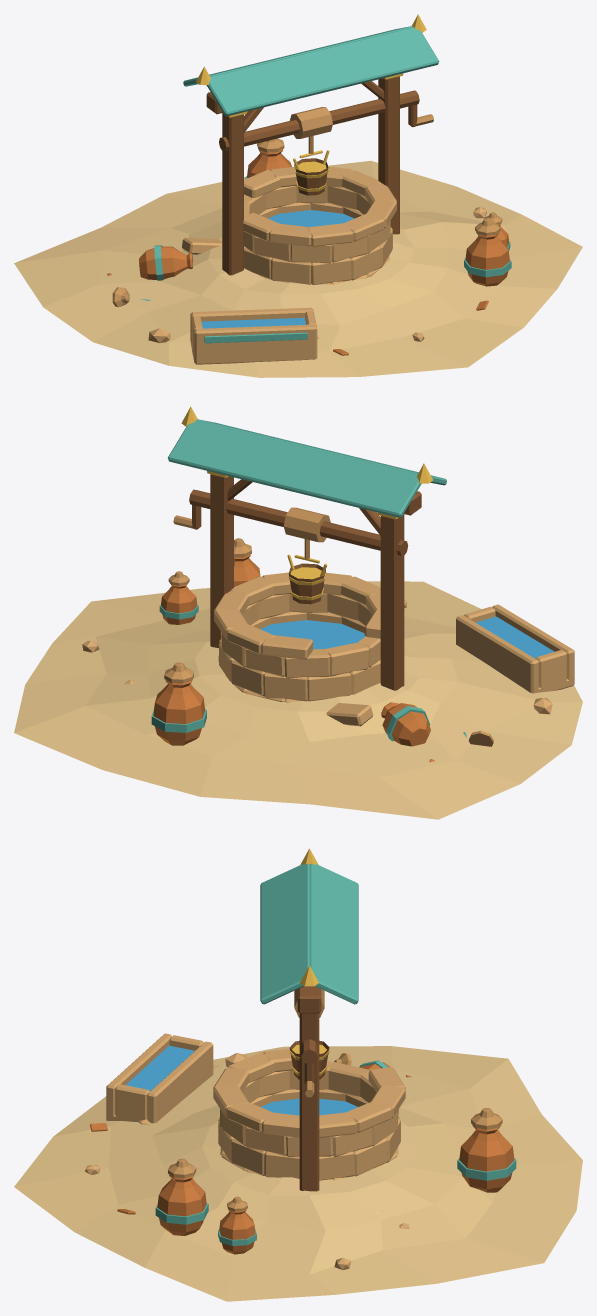
Rendered from desert-well.glb.
3 views of the same model, one above another, from view 1: azimuth 30°, elevation 25°; view 2: azimuth 150°, elevation 25°; view 3: azimuth 270°, elevation 25° (orthographic). The views are drawn at different scales.
Visible parts, largest first — view 1: Sand_Mound, Well_Frame, Well_Wall, Stone_Trough, Windlass, Jar_1, Jar_4, Bucket, Well_Water, Jar_3, Fallen_Capstone, Loose_Stones; view 2: Sand_Mound, Well_Frame, Well_Wall, Stone_Trough, Windlass, Jar_3, Well_Water, Jar_4, Bucket, Jar_2, Fallen_Capstone, Jar_1; view 3: Sand_Mound, Well_Wall, Well_Frame, Stone_Trough, Jar_3, Jar_1, Jar_2, Well_Water, Windlass, Bucket, Loose_Stones.
Part boxes in pixels (x1,y1,x2,y2): Sand_Mound: (14, 160, 582, 377); Well_Frame: (183, 26, 439, 275); Well_Wall: (243, 166, 396, 284); Stone_Trough: (190, 307, 317, 364); Windlass: (219, 90, 433, 151); Jar_1: (464, 232, 511, 286); Jar_4: (139, 245, 193, 280); Bucket: (293, 150, 329, 195); Well_Water: (268, 210, 354, 226); Jar_3: (245, 149, 291, 178); Fallen_Capstone: (182, 237, 222, 254); Loose_Stones: (148, 207, 486, 343); Sand_Mound: (14, 581, 582, 819); Well_Frame: (168, 419, 446, 690); Well_Wall: (214, 572, 380, 702); Stone_Trough: (456, 604, 574, 693); Windlass: (173, 489, 408, 555); Jar_3: (151, 680, 206, 745); Well_Water: (260, 620, 365, 649); Jar_4: (381, 702, 430, 746); Bucket: (287, 554, 327, 604); Jar_2: (159, 583, 198, 624); Fallen_Capstone: (326, 703, 373, 726); Jar_1: (234, 554, 260, 586); Sand_Mound: (14, 1046, 582, 1301); Well_Wall: (213, 1049, 405, 1180); Well_Frame: (260, 863, 358, 1191); Stone_Trough: (106, 1033, 213, 1123); Jar_3: (457, 1125, 516, 1192); Jar_1: (155, 1174, 208, 1235); Jar_2: (218, 1209, 256, 1254); Well_Water: (260, 1098, 357, 1115); Windlass: (294, 989, 324, 1097); Bucket: (289, 1040, 329, 1079); Loose_Stones: (85, 1053, 409, 1270).
Size of the model in its own units: 21.83 by 10.6 by 20.53.
